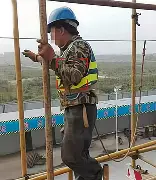safety belt: (55, 55, 96, 102)
